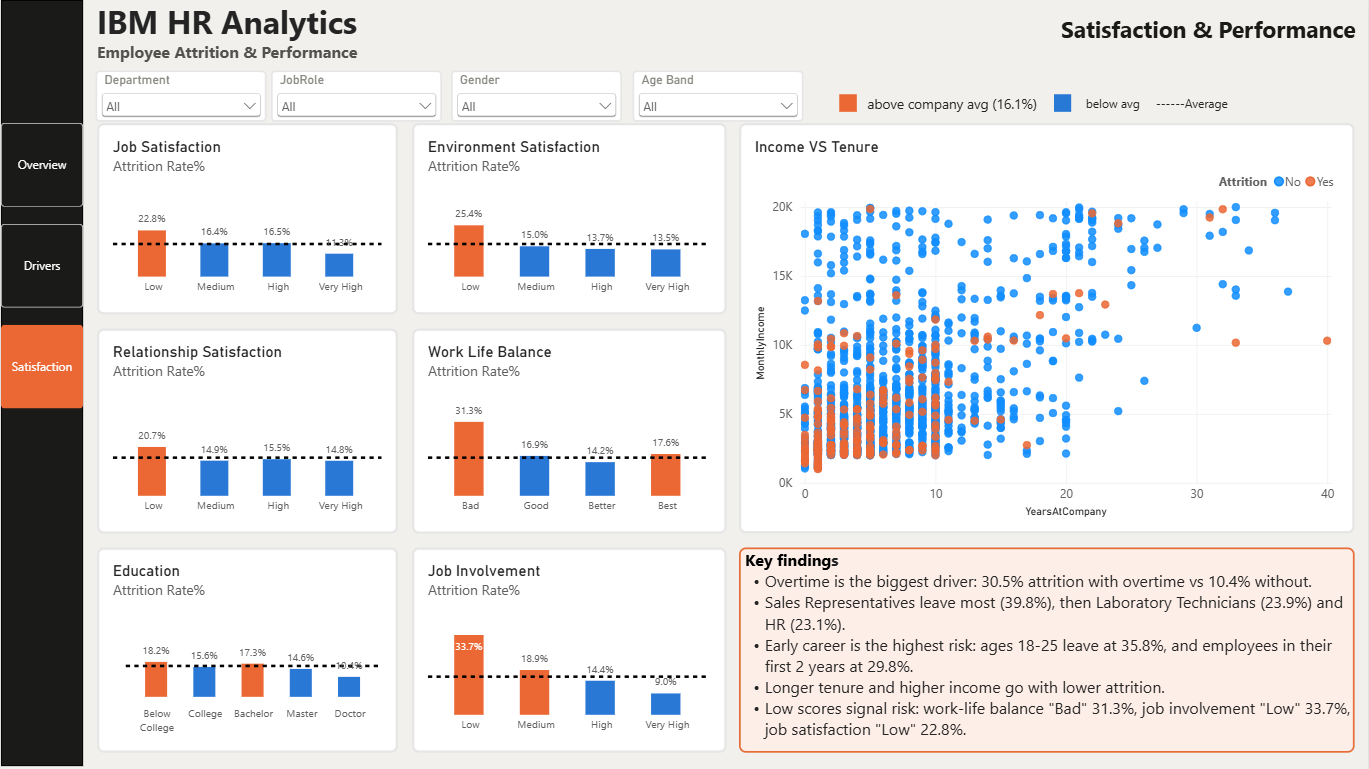

What the dashboard file says about the page in this screenshot:
{"tool":"powerbi","page":{"name":"Satisfaction","canvas":[1600,900],"ordinal":2},"visuals":[{"type":"shape","box":[0,0,96,896],"z":0},{"type":"shape","box":[980,110,20,20],"z":0,"group":"g1"},{"type":"textbox","box":[112,0,560,64],"z":1000},{"type":"shape","box":[1230,110,20,20],"z":1000,"group":"g1"},{"type":"textbox","box":[112,48,560,64],"z":2000},{"type":"textbox","box":[1008,110,208,80],"z":2000,"group":"g1"},{"type":"textbox","box":[1168,16,416,48],"z":3000},{"type":"textbox","box":[1264,110,80,32],"z":3000,"group":"g1"},{"type":"slicer","fields":{"Values":["Fact_Employees.JobRole"]},"box":[316,82,200,60],"z":4000},{"type":"textbox","box":[1350,110,140,24],"z":4000,"group":"g1"},{"type":"slicer","fields":{"Values":["Fact_Employees.Gender"]},"box":[526,82,200,60],"z":5000},{"type":"slicer","fields":{"Values":["Fact_Employees.Age Band"]},"box":[738,82,200,60],"z":6000},{"type":"group","id":"g1","title":"Group 1","box":[980,110,510,80],"z":7000},{"type":"pageNavigator","box":[0,144,96,336],"z":8000},{"type":"clusteredColumnChart","title":" Job Satisfaction","fields":{"Category":["Dim_JobSatisfaction.JobSatisfactionLabel"],"Y":["Measures_.Attrition Rate%"]},"box":[112,144,352,224],"z":9000},{"type":"clusteredColumnChart","title":"Environment Satisfaction","fields":{"Category":["Dim_EnvironmentSatisfaction.EnvironmentSatisfactionLabel"],"Y":["Measures_.Attrition Rate%"]},"box":[480,144,368,224],"z":10000},{"type":"clusteredColumnChart","title":"Work Life Balance","fields":{"Category":["Dim_WorkLifeBalance.WorkLifeBalanceLabel"],"Y":["Measures_.Attrition Rate%"]},"box":[480,384,368,240],"z":11000},{"type":"clusteredColumnChart","title":" Job Involvement","fields":{"Category":["Dim_JobInvolvement.JobInvolvementLabel"],"Y":["Measures_.Attrition Rate%"]},"box":[480,640,368,240],"z":12000},{"type":"clusteredColumnChart","title":"Relationship Satisfaction","fields":{"Category":["Dim_RelationshipSatisfaction.RelationshipSatisfactionLabel"],"Y":["Measures_.Attrition Rate%"]},"box":[112,384,352,240],"z":13000},{"type":"clusteredColumnChart","title":"Education","fields":{"Category":["Dim_Education.EducationLabel"],"Y":["Measures_.Attrition Rate%"]},"box":[112,640,352,240],"z":14000},{"type":"scatterChart","title":"Income VS Tenure","fields":{"Series":["Fact_Employees.Attrition"],"X":["Fact_Employees.YearsAtCompany"],"Y":["Fact_Employees.MonthlyIncome"]},"box":[864,144,720,480],"z":15000},{"type":"slicer","fields":{"Values":["Fact_Employees.Department"]},"box":[110,82,200,60],"z":16000},{"type":"textbox","box":[864,640,720,240],"z":16001}]}

Visuals, with their boxes in screenshot pixels (x1, y1, x2, y2), scaled from the page's 1600x900 canvas onto the 1369x769 screenshot:
shape: left=0, top=0, right=82, bottom=766
shape: left=839, top=94, right=856, bottom=111
textbox: left=96, top=0, right=575, bottom=55
shape: left=1052, top=94, right=1070, bottom=111
textbox: left=96, top=41, right=575, bottom=96
textbox: left=862, top=94, right=1040, bottom=162
textbox: left=999, top=14, right=1355, bottom=55
textbox: left=1082, top=94, right=1150, bottom=121
slicer - Fact_Employees.JobRole: left=270, top=70, right=442, bottom=121
textbox: left=1155, top=94, right=1275, bottom=114
slicer - Fact_Employees.Gender: left=450, top=70, right=621, bottom=121
slicer - Fact_Employees.Age Band: left=631, top=70, right=803, bottom=121
"Group 1" group: left=839, top=94, right=1275, bottom=162
pageNavigator: left=0, top=123, right=82, bottom=410
" Job Satisfaction" clusteredColumnChart: left=96, top=123, right=397, bottom=314
"Environment Satisfaction" clusteredColumnChart: left=411, top=123, right=726, bottom=314
"Work Life Balance" clusteredColumnChart: left=411, top=328, right=726, bottom=533
" Job Involvement" clusteredColumnChart: left=411, top=547, right=726, bottom=752
"Relationship Satisfaction" clusteredColumnChart: left=96, top=328, right=397, bottom=533
"Education" clusteredColumnChart: left=96, top=547, right=397, bottom=752
"Income VS Tenure" scatterChart: left=739, top=123, right=1355, bottom=533
slicer - Fact_Employees.Department: left=94, top=70, right=265, bottom=121
textbox: left=739, top=547, right=1355, bottom=752
